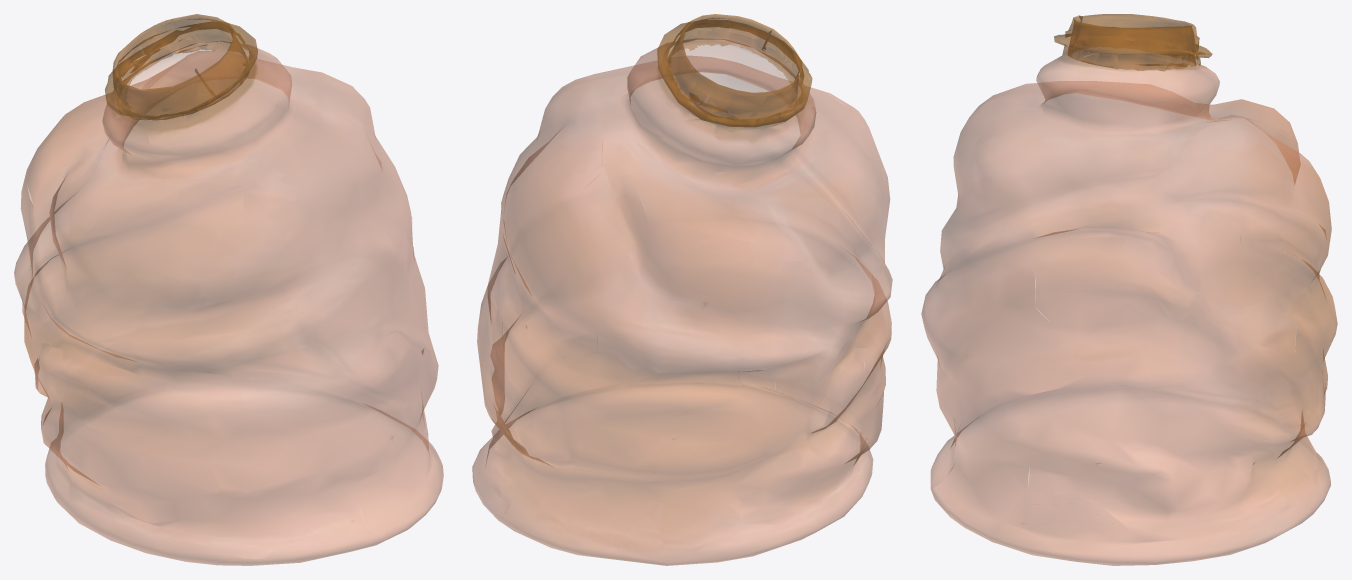
The model's file is 07_5_nj_et_brw_s_trs-opt-v39.glb.
The picture shows the model from 3 angles, left to right: view 1: azimuth 30°, elevation 25°; view 2: azimuth 150°, elevation 25°; view 3: azimuth 270°, elevation 25°; orthographic projection. The views are drawn at different scales.
Visible parts, largest first — view 1: brwn; view 2: brwn; view 3: brwn.
Boxes of the visible parts, bbox=[...] form: brwn: bbox=[14, 14, 443, 565]; brwn: bbox=[472, 14, 892, 565]; brwn: bbox=[921, 14, 1337, 565].
Size of the model in its own units: 0.1546 by 0.19 by 0.155.
1 material, 1 textured.
